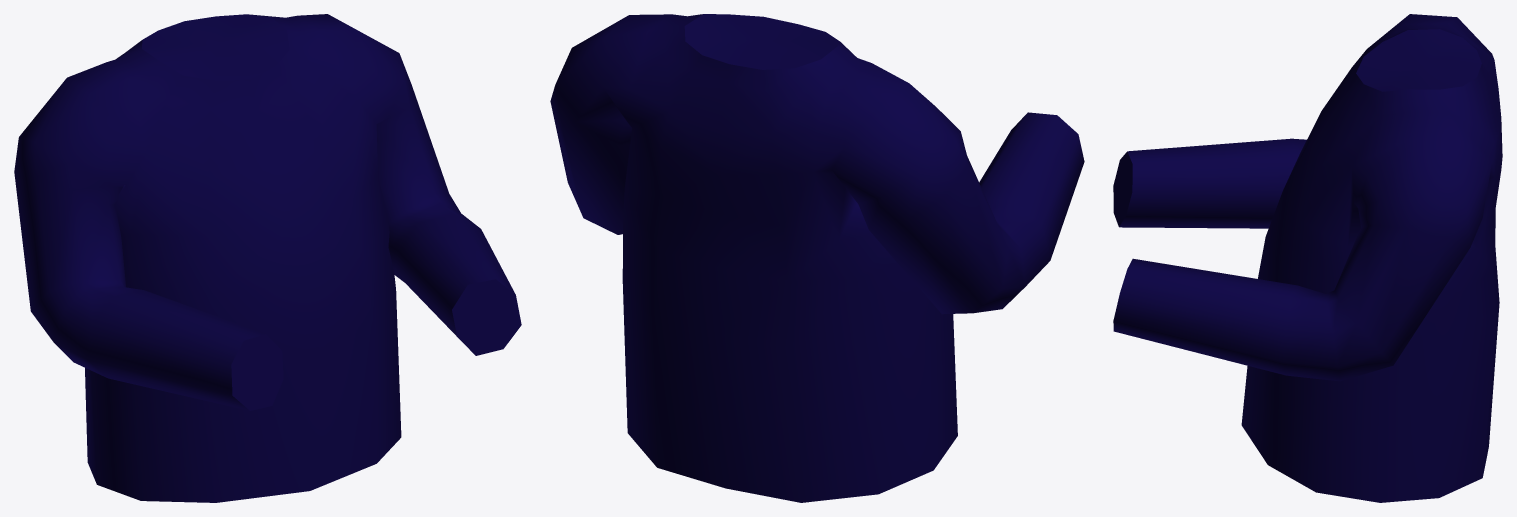
Rendered from Racer_Jacket_01.fbx.
3 views of the same model, side by side, from view 1: azimuth 30°, elevation 25°; view 2: azimuth 150°, elevation 25°; view 3: azimuth 270°, elevation 25° (orthographic). The views are drawn at different scales.
Parts seen in each view (by area): view 1: Racer_Jacket_01; view 2: Racer_Jacket_01; view 3: Racer_Jacket_01.
Boxes of the visible parts, left/top/right/bottom form: Racer_Jacket_01: left=14, top=14, right=521, bottom=502; Racer_Jacket_01: left=550, top=14, right=1084, bottom=502; Racer_Jacket_01: left=1113, top=14, right=1502, bottom=502.
Bounding box in the file's own units: 55.42 × 47.28 × 51.92.
